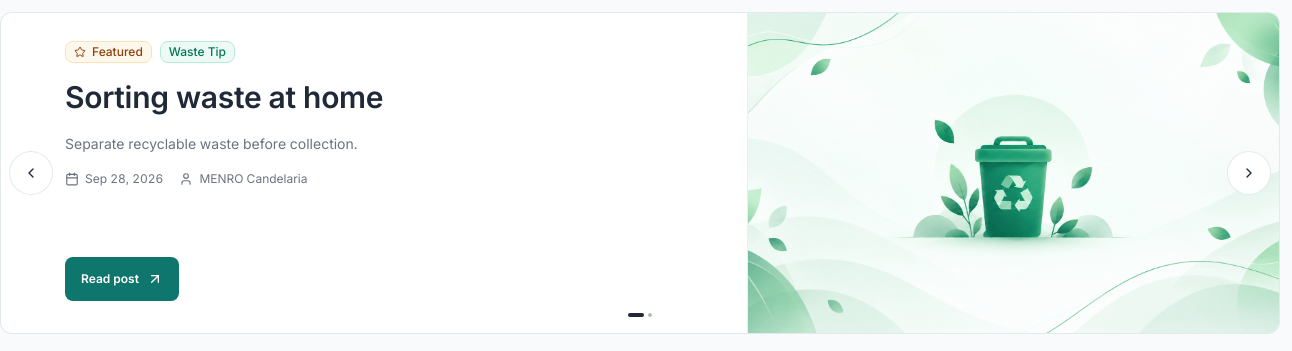
Scenario: keeps manual navigation available without autoplay for reduced motion
Check: the heading reads "Sorting waste at home", box 65,79 -> 714,116
Click the button named "Next featured post" at (1249, 173), box 1227,151 -> 1271,195
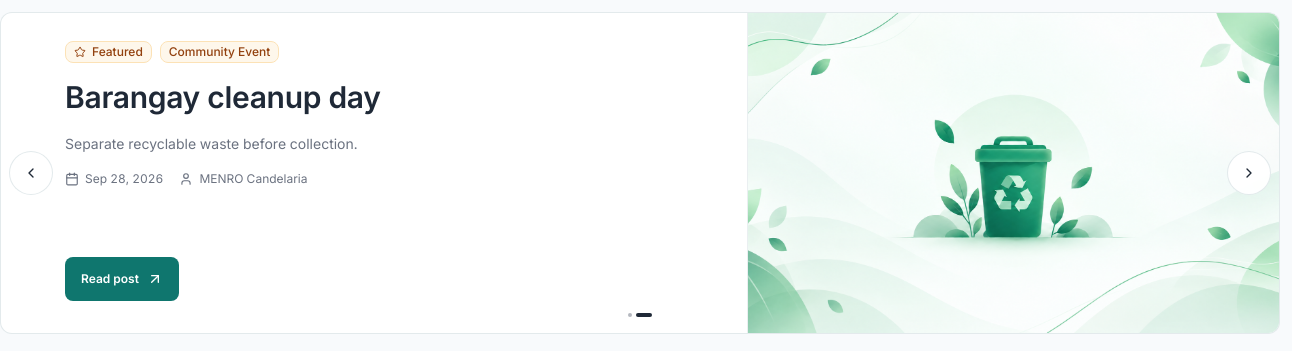
Check: the heading reads "Barangay cleanup day", box 65,79 -> 714,116
